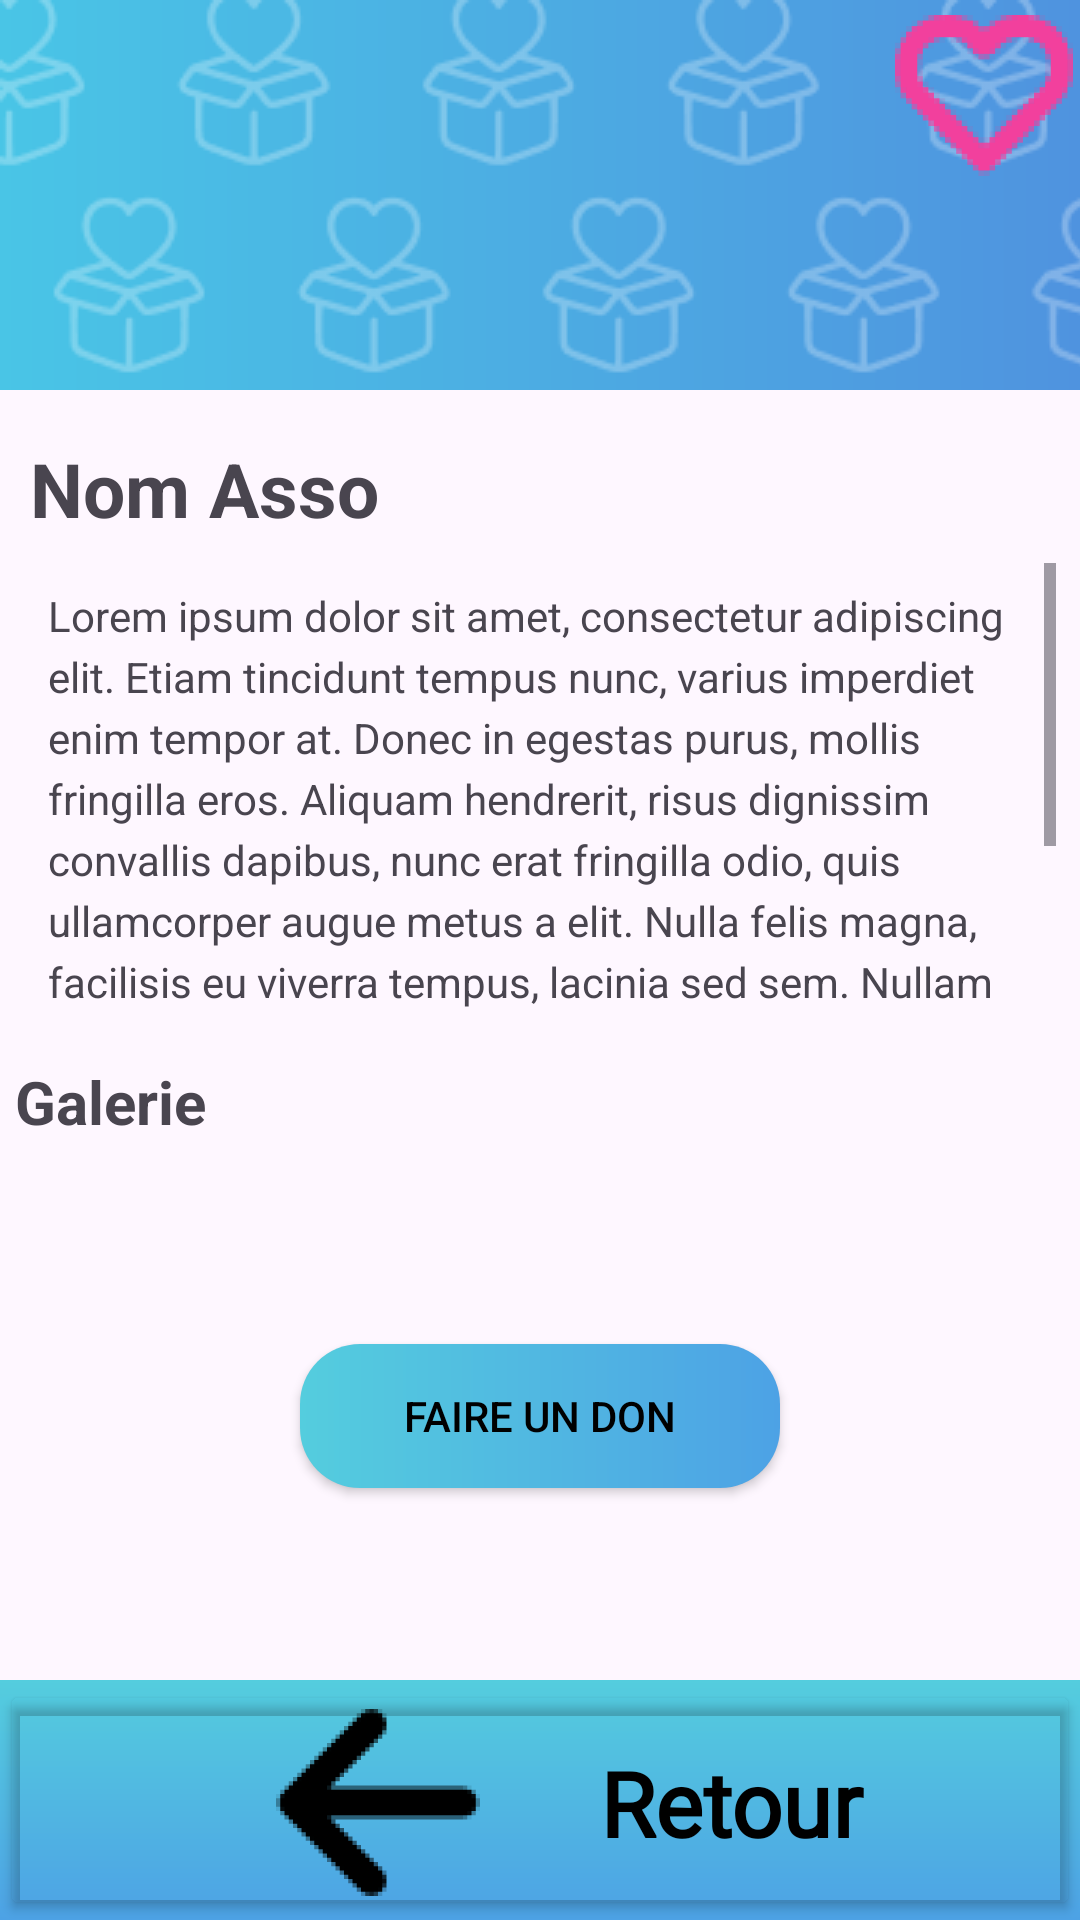

Icons on this 1080*1920 Android screen, each with its box as detection(x1, y1, x2, y2):
Icône coeur: detection(895, 0, 1073, 176)
